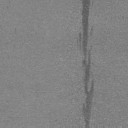red iron: (78, 0, 94, 128)
